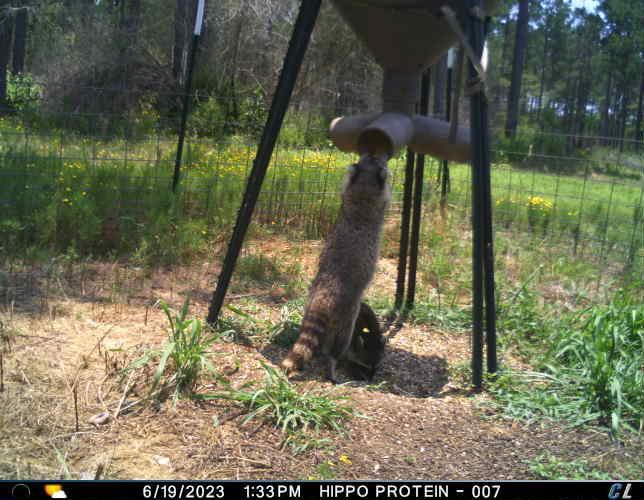Raccoon: (277, 146, 404, 372), (336, 301, 392, 381)
